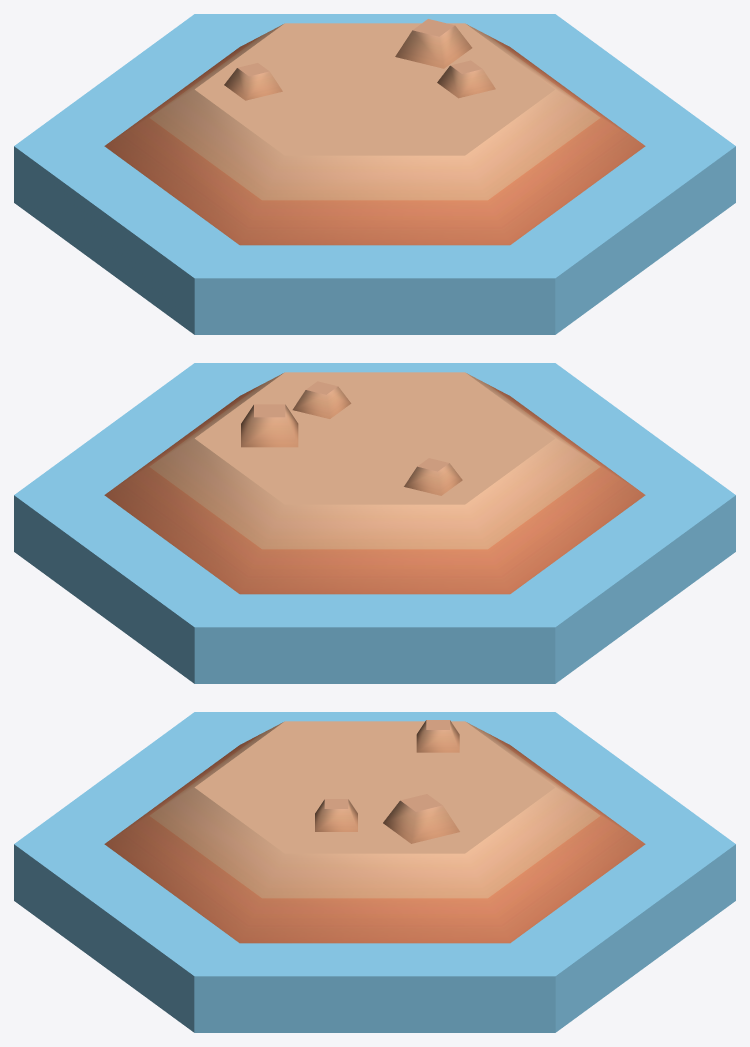
The model's file is kenney-hexagon-water-island.glb.
3 views of the same model, one above another, from view 1: azimuth 30°, elevation 25°; view 2: azimuth 150°, elevation 25°; view 3: azimuth 270°, elevation 25° (orthographic).
Visible parts, largest first — view 1: water_island; view 2: water_island; view 3: water_island.
Part boxes in pixels (bbox=[...]): water_island: bbox=[14, 14, 735, 334]; water_island: bbox=[14, 363, 735, 683]; water_island: bbox=[14, 712, 735, 1032].
Bounding box in the file's own units: 1 × 0.2434 × 1.15.
1 material, 1 textured.
